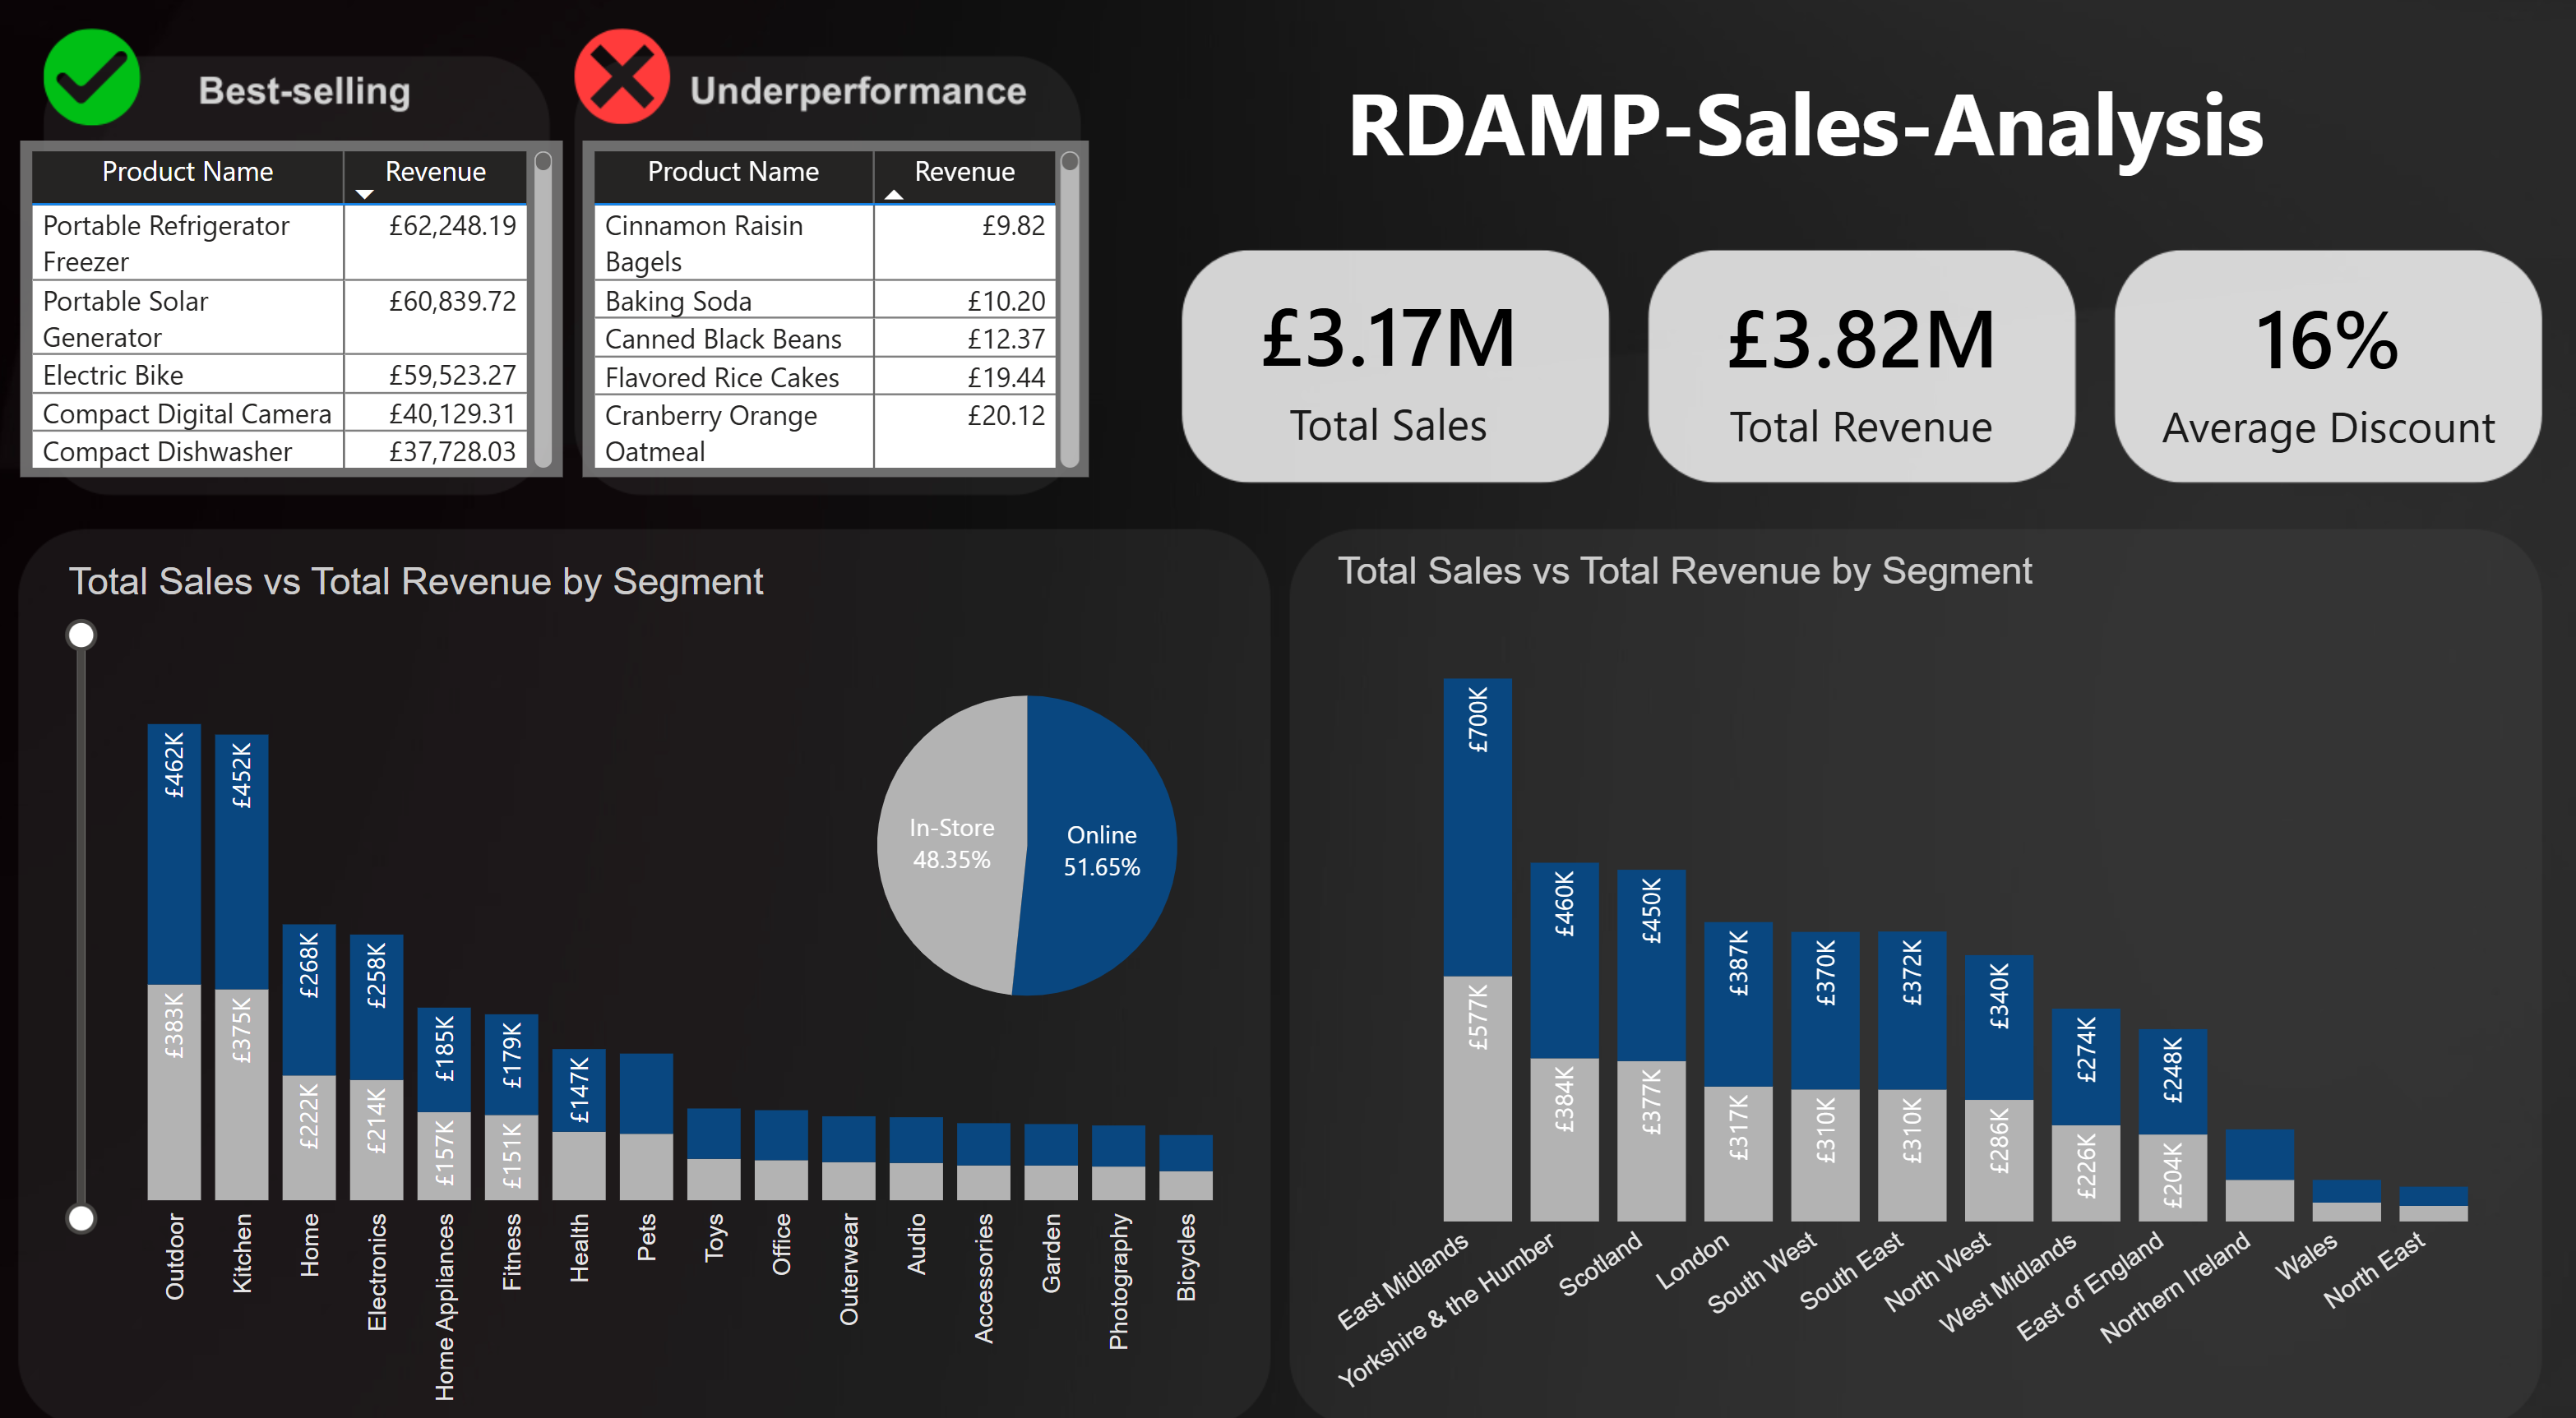

Layout of this report page (visuals, bound fields, positions):
{"tool":"powerbi","page":{"name":"Principal Analysis","canvas":[1280,720],"ordinal":0},"visuals":[{"type":"card","fields":{"Values":["Sum(TASK-INT001-RDAMP  - Retail_DB (4).Total_Sales)"]},"box":[583.1,122.1,211.3,114.2],"z":0},{"type":"card","fields":{"Values":["Sum(TASK-INT001-RDAMP  - Retail_DB (4).Total_Revenue)"]},"box":[818.2,122.7,209.4,114.2],"z":1000},{"type":"columnChart","title":"Total Sales vs Total Revenue by Segment","fields":{"Category":["TASK-INT001-RDAMP  - Retail_DB (4).Segment"],"Y":["Sum(TASK-INT001-RDAMP  - Retail_DB (4).Total_Sales)","Sum(TASK-INT001-RDAMP  - Retail_DB (4).Total_Revenue)"]},"box":[30.3,278.1,591.4,441.5],"z":2000},{"type":"tableEx","fields":{"Values":["TASK-INT001-RDAMP  - Retail_DB (4).Product Name","Sum(TASK-INT001-RDAMP  - Retail_DB (4).Total_Revenue)"]},"box":[11.6,69.6,268.7,166.7],"z":3000},{"type":"tableEx","fields":{"Values":["TASK-INT001-RDAMP  - Retail_DB (4).Product Name","Sum(TASK-INT001-RDAMP  - Retail_DB (4).Total_Revenue)"]},"box":[290,69.6,251,166.7],"z":4000},{"type":"card","fields":{"Values":["Avg(TASK-INT001-RDAMP  - Retail_DB (4).Discount_Cleaned)"]},"box":[1047.8,123.3,213.1,114.2],"z":5000},{"type":"pieChart","fields":{"Category":["TASK-INT001-RDAMP  - Retail_DB (4).Order Mode"],"Y":["CountNonNull(TASK-INT001-RDAMP  - Retail_DB (4).Order ID)"]},"box":[360,312.1,299.3,212.9],"z":6000},{"type":"columnChart","title":"Total Sales vs Total Revenue by Segment","fields":{"Y":["Sum(TASK-INT001-RDAMP  - Retail_DB (4).Total_Sales)","Sum(TASK-INT001-RDAMP  - Retail_DB (4).Total_Revenue)"],"Category":["TASK-INT001-RDAMP  - Retail_DB (4).Region_Cleaned"]},"box":[658.9,272.5,587.1,441.5],"z":7000},{"type":"textbox","box":[663.1,25.6,579.4,68.4],"z":8000}]}

Visuals, with their boxes in screenshot pixels (x1, y1, x2, y2), scaled from the page's 1280x720 canvas onto the 2576x1418 screenshot:
card - Sum(TASK-INT001-RDAMP  - Retail_DB (4).Total_Sales): bbox(1173, 241, 1598, 465)
card - Sum(TASK-INT001-RDAMP  - Retail_DB (4).Total_Revenue): bbox(1647, 242, 2068, 467)
"Total Sales vs Total Revenue by Segment" columnChart: bbox(61, 547, 1251, 1417)
tableEx - TASK-INT001-RDAMP  - Retail_DB (4).Product Name x Sum(TASK-INT001-RDAMP  - Retail_DB (4).Total_Revenue): bbox(23, 137, 564, 465)
tableEx - TASK-INT001-RDAMP  - Retail_DB (4).Product Name x Sum(TASK-INT001-RDAMP  - Retail_DB (4).Total_Revenue): bbox(584, 137, 1089, 465)
card - Avg(TASK-INT001-RDAMP  - Retail_DB (4).Discount_Cleaned): bbox(2109, 242, 2537, 468)
pieChart - TASK-INT001-RDAMP  - Retail_DB (4).Order Mode x CountNonNull(TASK-INT001-RDAMP  - Retail_DB (4).Order ID): bbox(724, 615, 1327, 1034)
"Total Sales vs Total Revenue by Segment" columnChart: bbox(1326, 537, 2508, 1406)
textbox: bbox(1334, 50, 2500, 185)
